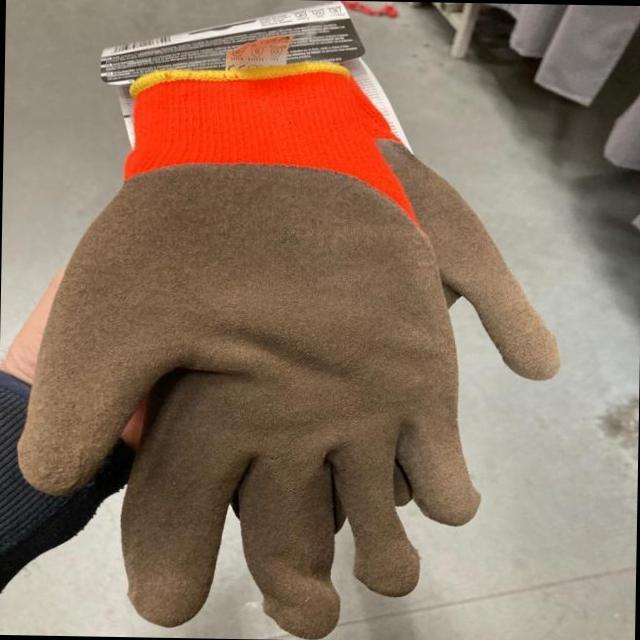glove: (13, 68, 484, 635)
